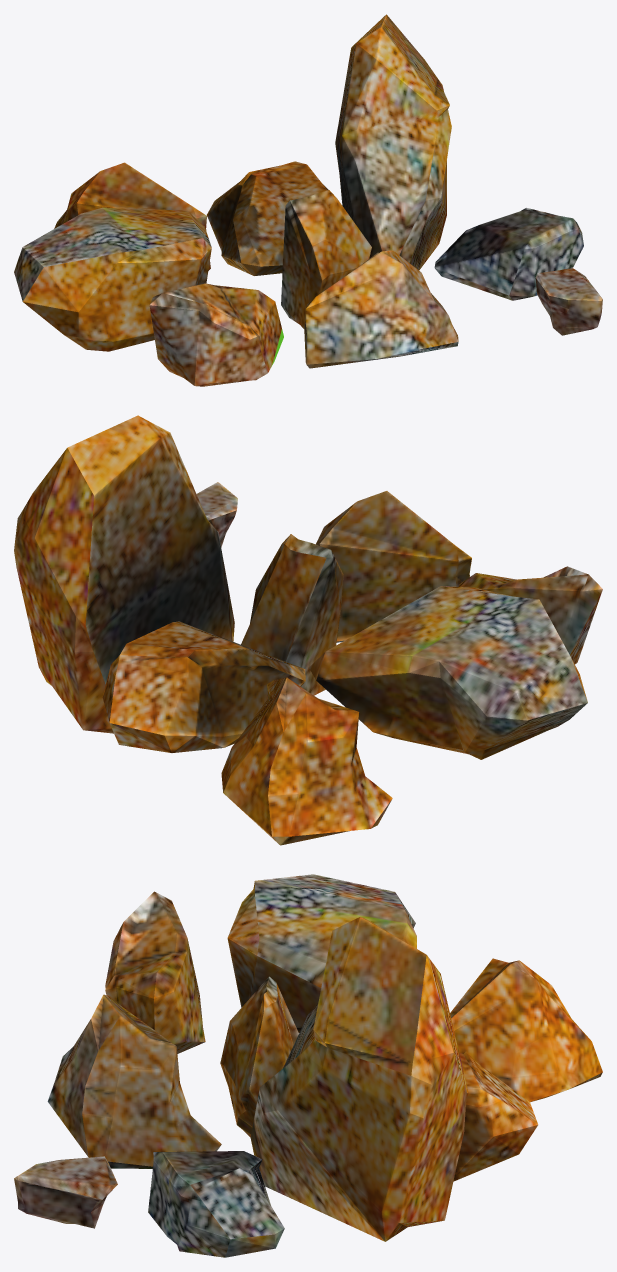
File: resourceIron.FBX
The picture shows the model from 3 angles, top to bottom: view 1: azimuth 30°, elevation 25°; view 2: azimuth 150°, elevation 25°; view 3: azimuth 270°, elevation 25°; orthographic projection. The views are drawn at different scales.
Parts seen in each view (by area): view 1: justanotherstone003; view 2: justanotherstone003; view 3: justanotherstone003.
Boxes of the visible parts, bbox=[...] form: justanotherstone003: bbox=[14, 14, 602, 386]; justanotherstone003: bbox=[14, 415, 602, 845]; justanotherstone003: bbox=[14, 874, 602, 1257].
Size of the model in its own units: 332 by 160 by 274.
